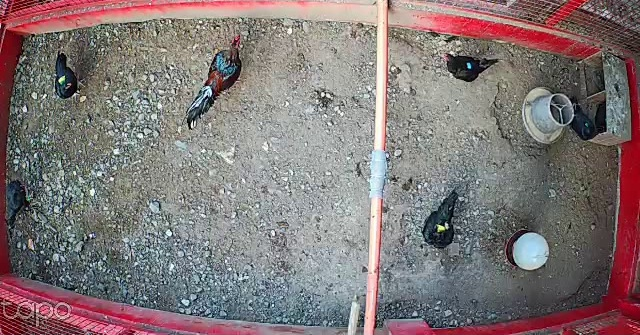Chicken: (421, 187, 469, 251), (440, 47, 499, 84), (2, 175, 40, 231), (49, 50, 85, 105), (568, 93, 605, 142)
Rooster: (183, 36, 247, 128)
Saddle_Color_Blue: (467, 62, 473, 70)
Saddle_Color_Yellow: (436, 226, 447, 234)
Saddle_Color_YellowGreen: (59, 75, 65, 85)
